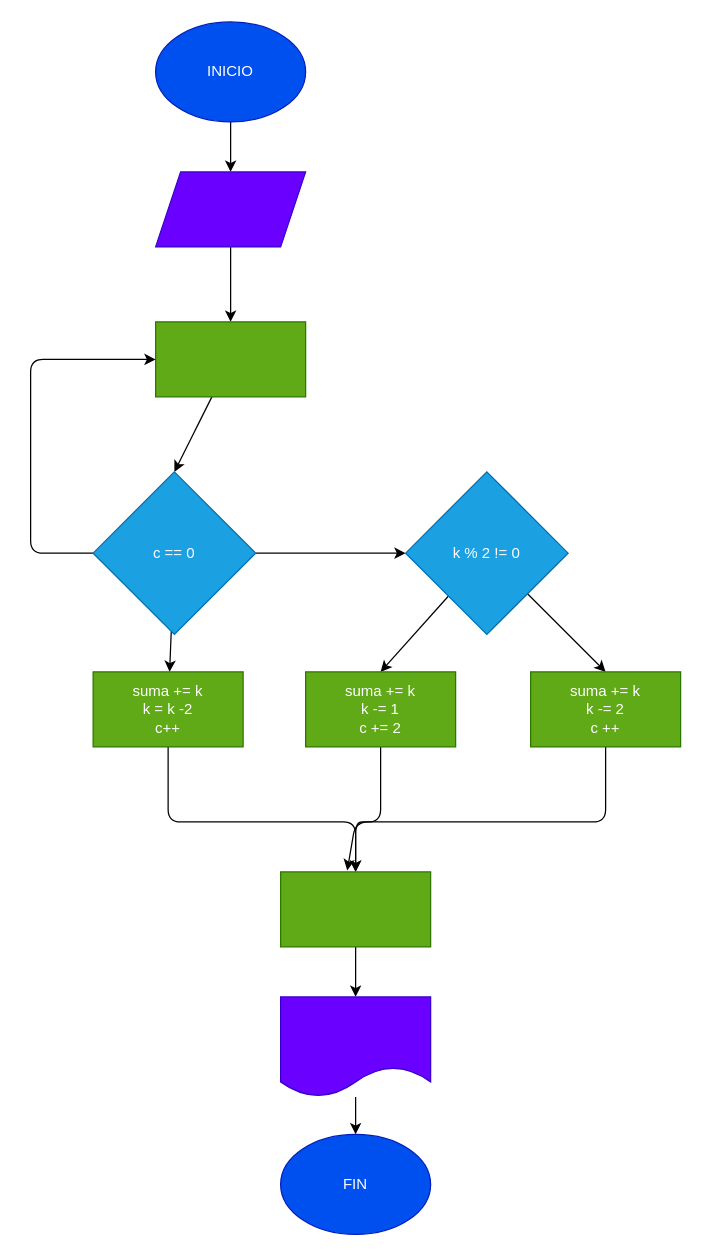
The diagram is 703 pixels wide and 1256 high, and some of its shapes have lost their labels. The centre of each missing label's shape, as x and y in pixels:
"0 < k" goes at point 230,359.
"k c = 0" goes at point 230,209.
"promedio" goes at point 355,1046.
"promedio = suma / c" goes at point 355,909.
